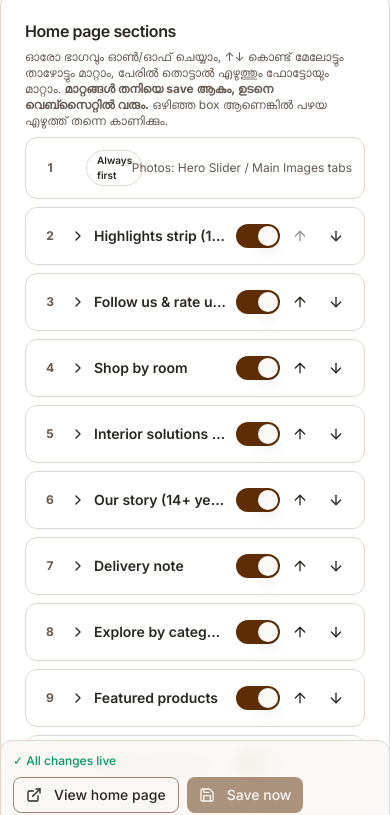
Test: HomeLayoutEditor › lists every section, opens one with its current text, and tracks unsaved changes
Later steps or results of the test are not shown.
Expected: the text "Home page sections" is shown, [25, 21, 176, 41]
Expected: the text "✓ All changes live" is shown, [13, 753, 116, 769]
Click the button "Shop by room" at (149, 368), box [70, 358, 228, 378]
(page scrolled)
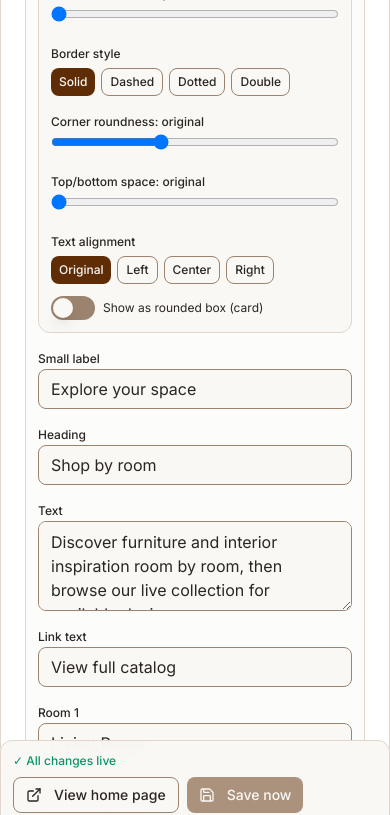
Type "Find your room" into the field showing "Shop by room" below "Heading" at (195, 464), box [38, 444, 352, 484]
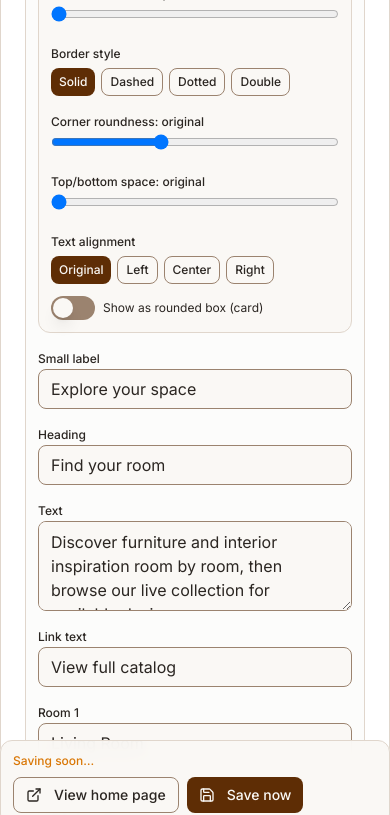
Expected: the text "Saving soon…" is shown, [13, 753, 94, 769]
